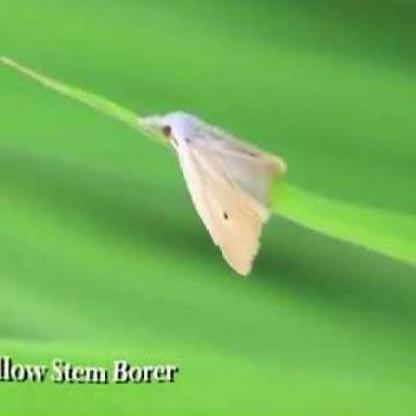stem-borer: (136, 110, 288, 278)
